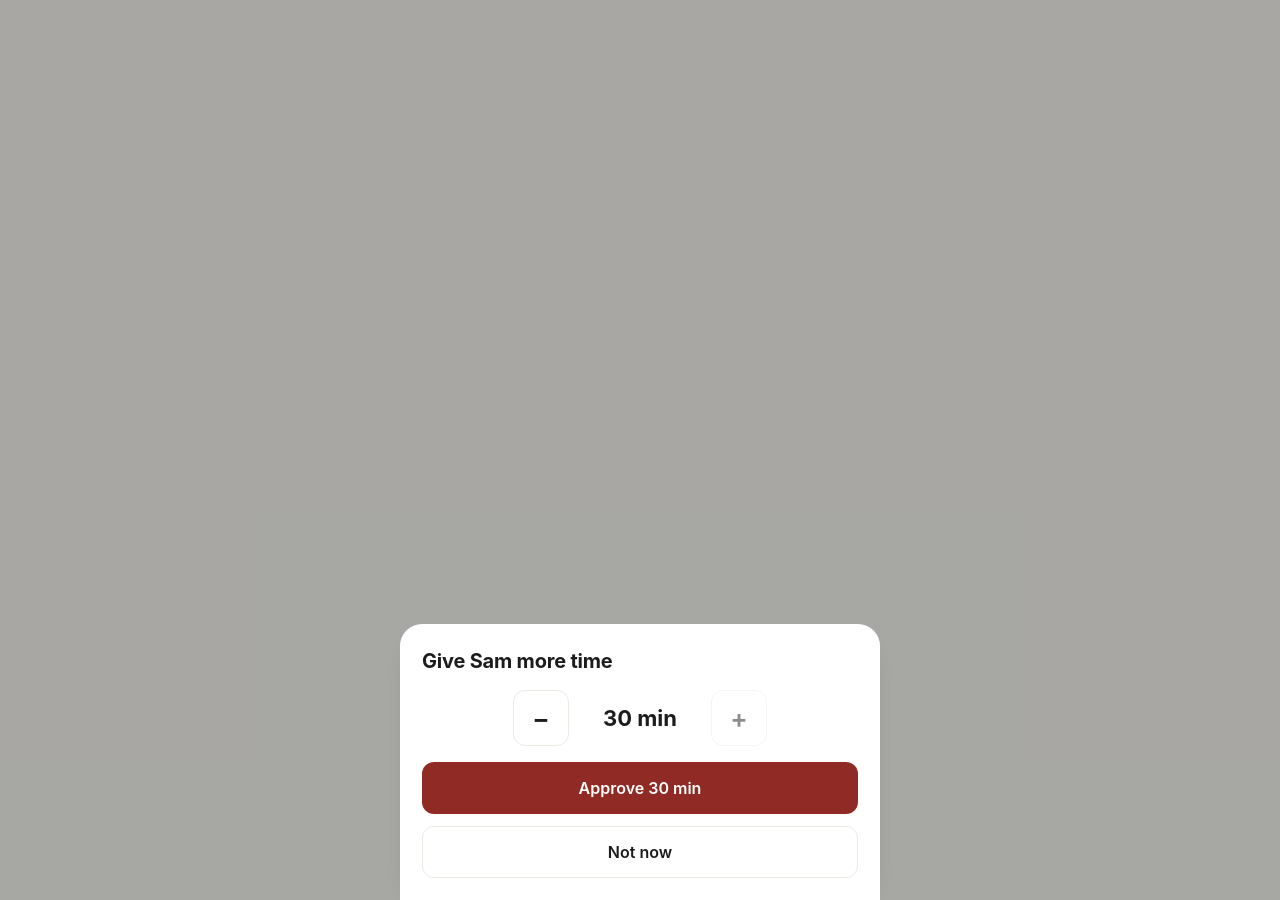
LeverSheet › approve › shows a failed send and leaves the sheet open
Click the button "Approve 30 min": (640, 788) x1=422 y1=762 x2=858 y2=814
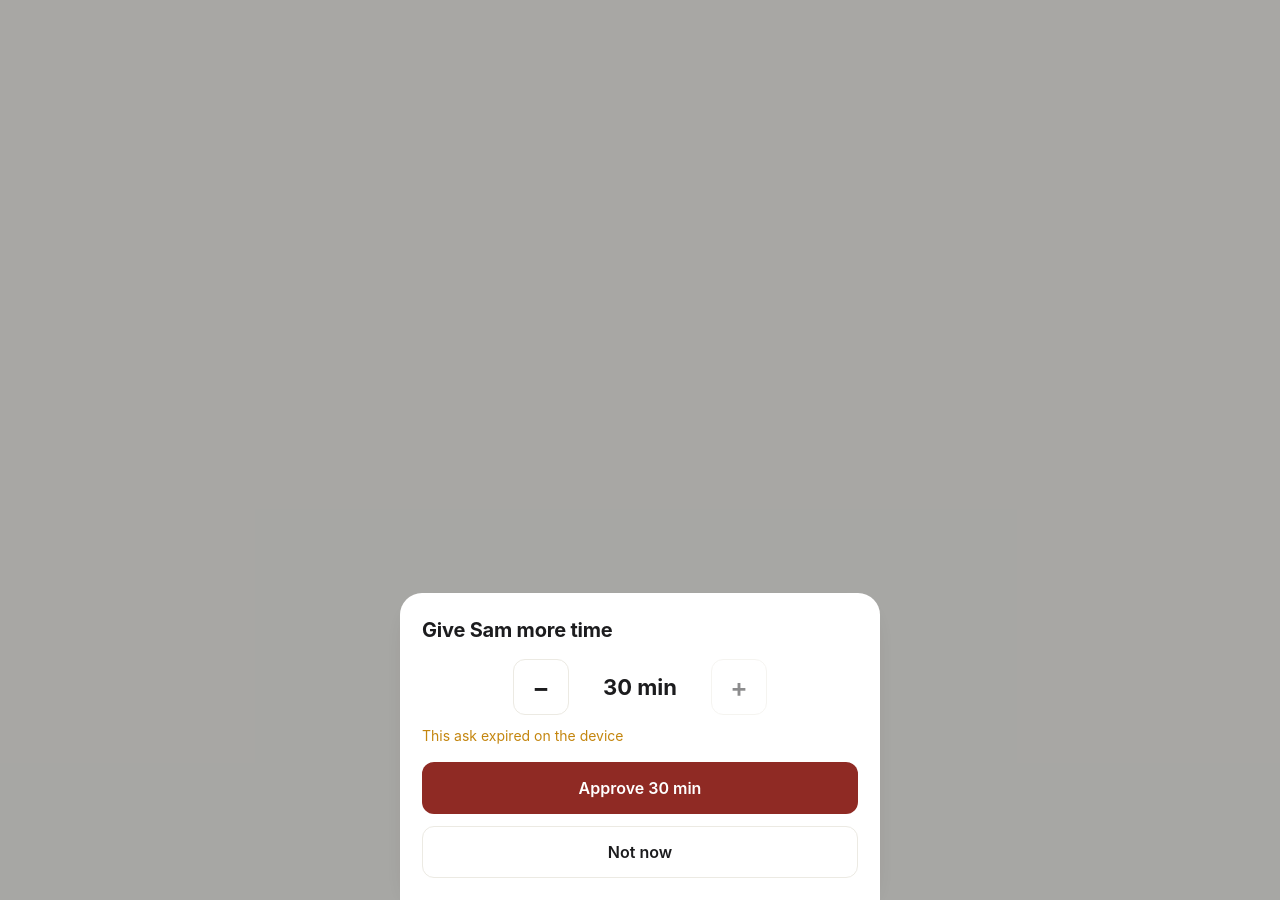
Expected: the message "This ask expired on the device" is shown, x1=422 y1=727 x2=624 y2=744
